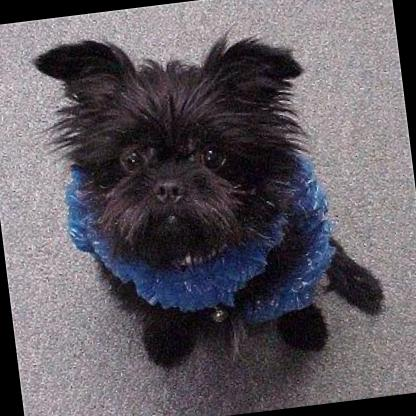affenpinscher: (27, 3, 389, 386)
